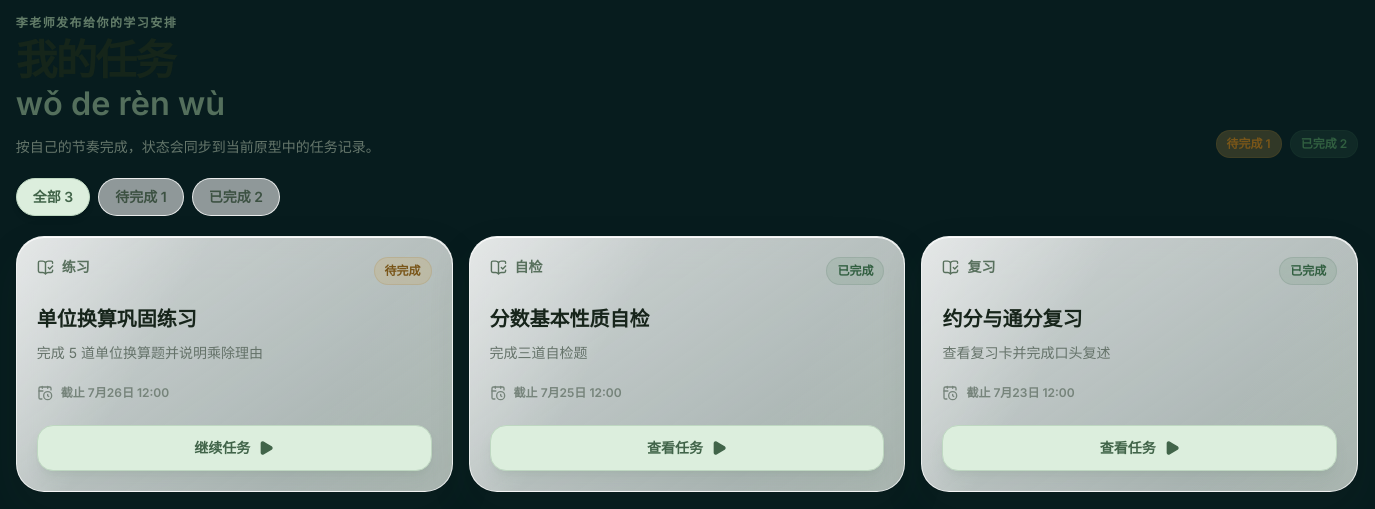
StudentTasksPage › filters visible teacher tasks by progress
The width and height of the screenshot is (1375, 509).
Click the button "待完成 1" at (141, 197), box [98,178,184,216]
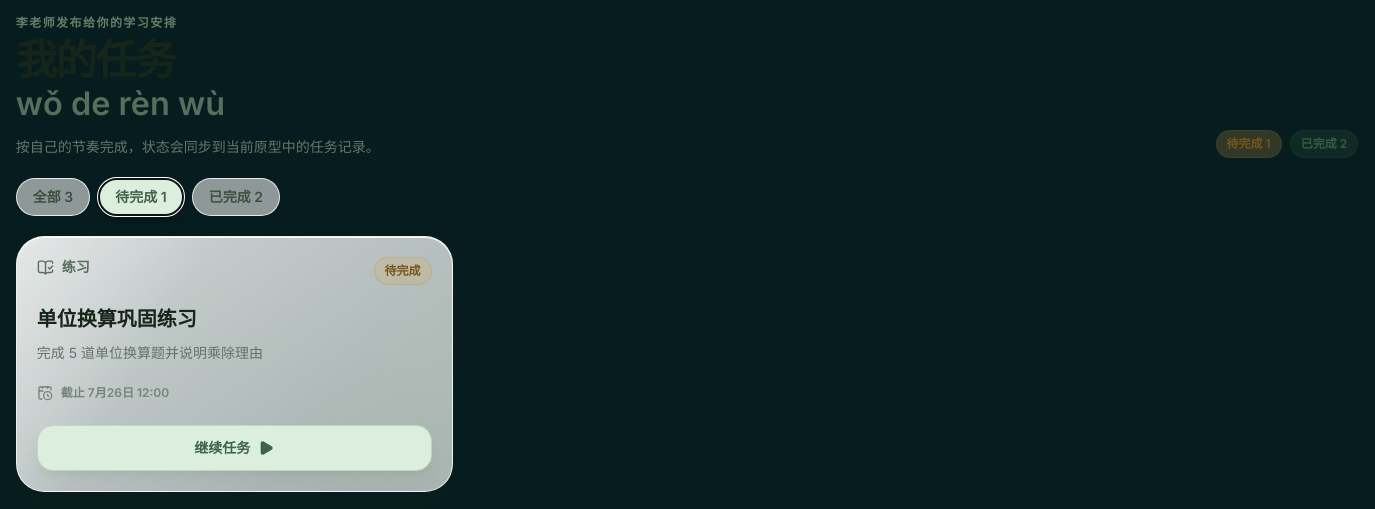
Check: the heading "单位换算巩固练习" is shown, box [37,307,197,331]
Check: the heading "约分与通分复习" is gone
Click the button "已完成 2" at (236, 197), box [192,178,280,216]
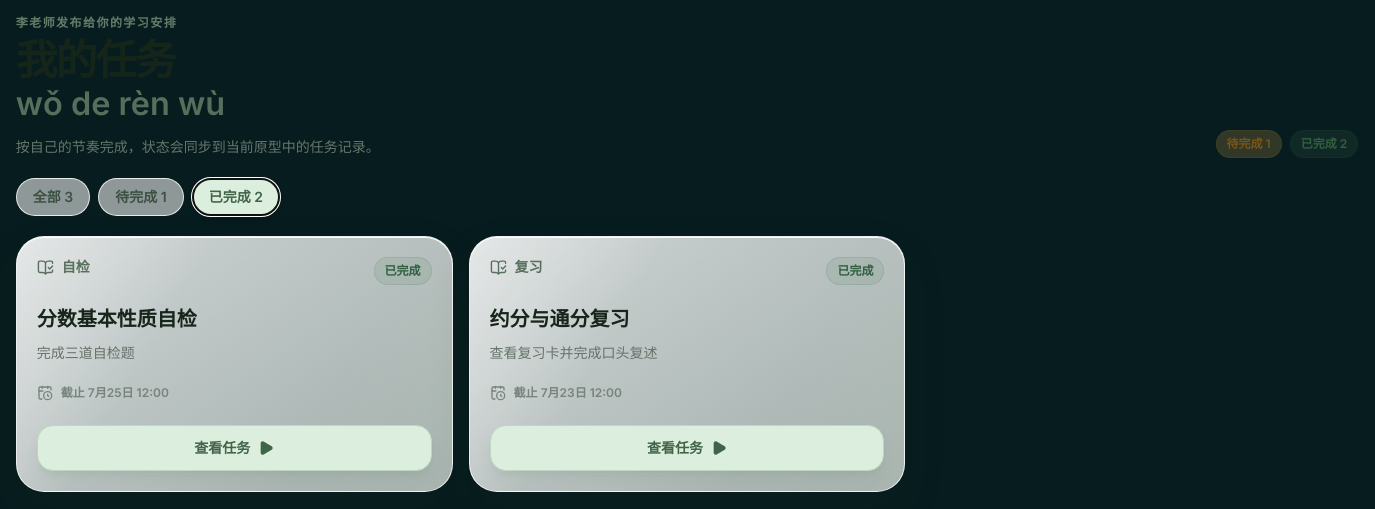
Check: the heading "约分与通分复习" is shown, box [490,307,630,331]
Check: the heading "单位换算巩固练习" is gone
